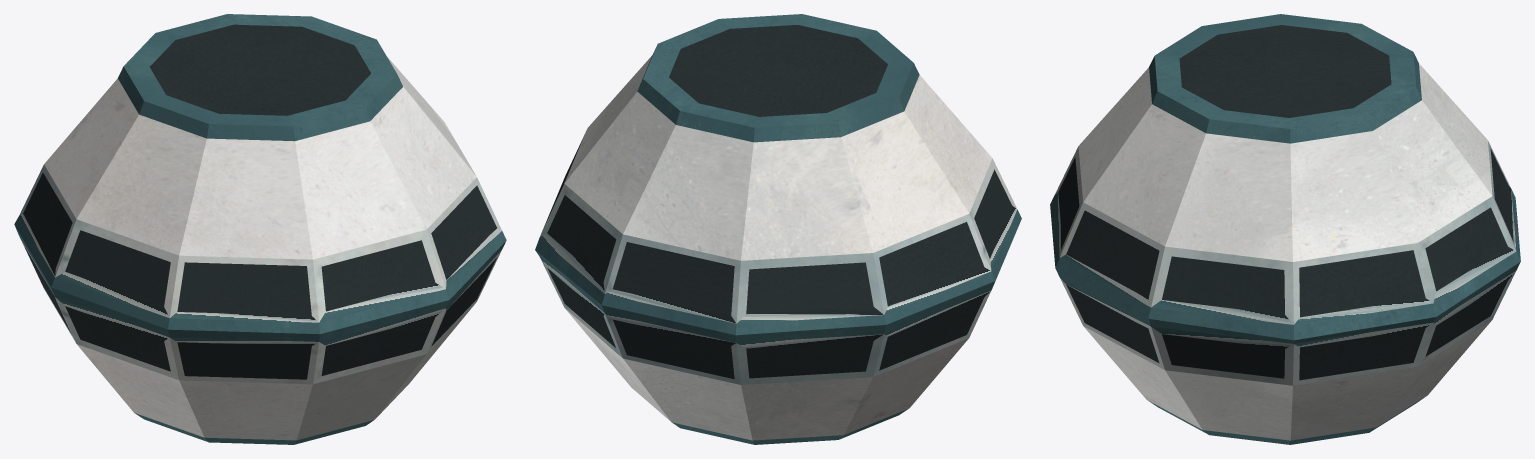
File: etage 1.fbx
3 views of the same model, side by side, from view 1: azimuth 30°, elevation 25°; view 2: azimuth 150°, elevation 25°; view 3: azimuth 270°, elevation 25° (orthographic).
Visible parts, largest first — view 1: Maison.002; view 2: Maison.002; view 3: Maison.002.
Boxes of the visible parts, left/top/right/bottom form: Maison.002: left=14, top=14, right=506, bottom=444; Maison.002: left=535, top=14, right=1021, bottom=444; Maison.002: left=1050, top=14, right=1520, bottom=444.
Bounding box in the file's own units: 296 × 211 × 284.
